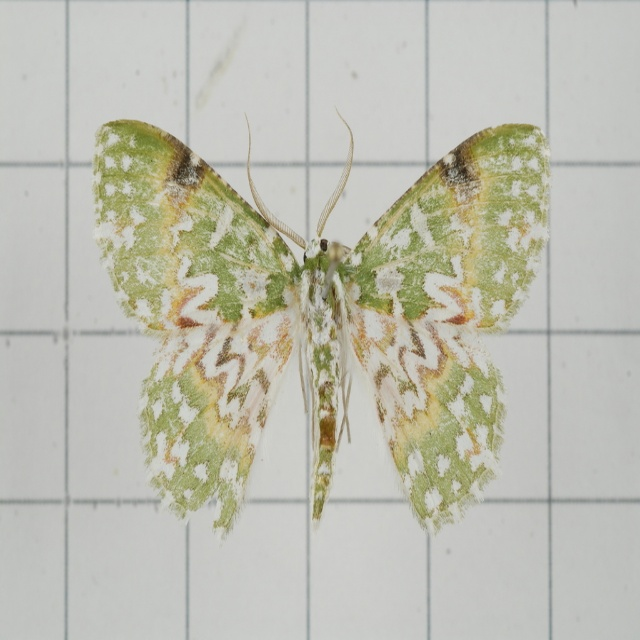Butterfly: (77, 103, 561, 558)
